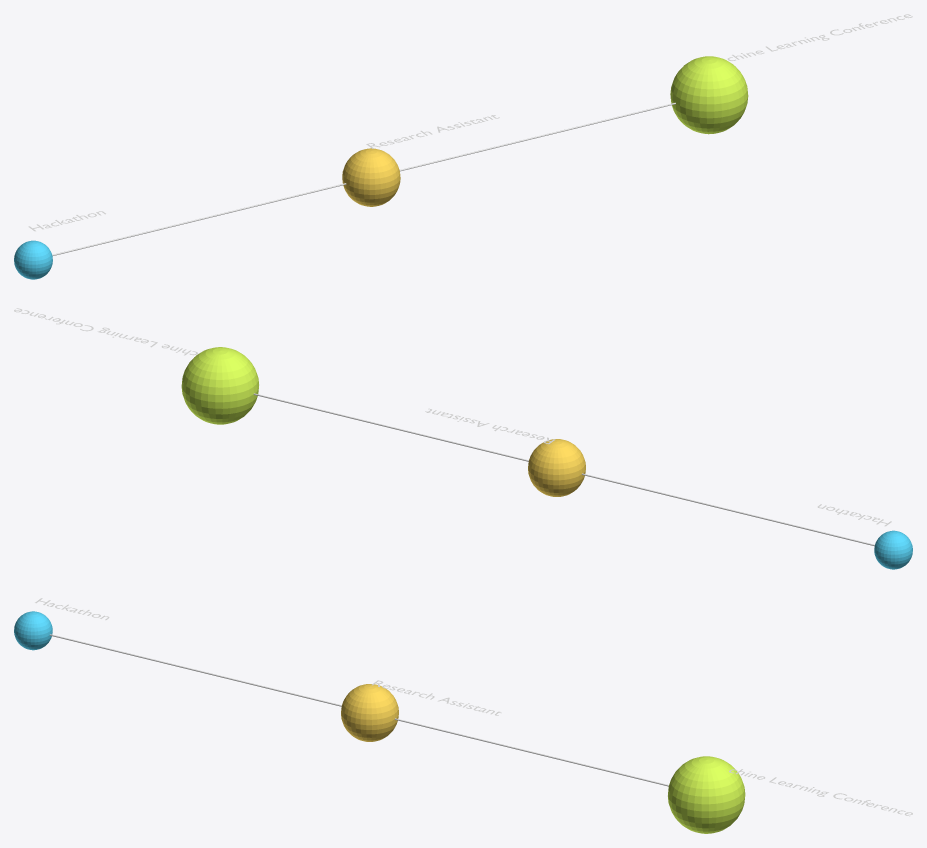
The model's file is 3-node-cct-sample.glb.
The picture shows the model from 3 angles, top to bottom: view 1: azimuth 30°, elevation 25°; view 2: azimuth 150°, elevation 25°; view 3: azimuth 330°, elevation 25°; orthographic projection.
Visible parts, largest first — view 1: Machine_Learning_Conference_Innovation, Research_Assistant_Research, Hackathon_Technology, BézierCurve, BézierCurve.001, Text.002; view 2: Machine_Learning_Conference_Innovation, Research_Assistant_Research, Hackathon_Technology, BézierCurve, BézierCurve.001, Text.002; view 3: Machine_Learning_Conference_Innovation, Research_Assistant_Research, Hackathon_Technology, BézierCurve, BézierCurve.001, Text.002.
Boxes of the visible parts, x1,y1,x2,y2 form: Machine_Learning_Conference_Innovation: (670, 56, 748, 134); Research_Assistant_Research: (342, 148, 400, 206); Hackathon_Technology: (14, 240, 52, 279); BézierCurve: (52, 183, 346, 255); BézierCurve.001: (399, 102, 675, 171); Text.002: (727, 14, 912, 60); Machine_Learning_Conference_Innovation: (181, 347, 258, 424); Research_Assistant_Research: (528, 439, 585, 496); Hackathon_Technology: (874, 530, 912, 569); BézierCurve: (581, 473, 874, 546); BézierCurve.001: (253, 393, 528, 461); Text.002: (14, 308, 197, 355); Machine_Learning_Conference_Innovation: (668, 756, 745, 833); Research_Assistant_Research: (341, 684, 398, 741); Hackathon_Technology: (14, 611, 52, 650); BézierCurve: (49, 634, 341, 706); BézierCurve.001: (394, 718, 668, 786); Text.002: (729, 769, 912, 816).
Size of the model in its own units: 26.54 by 2 by 2.
